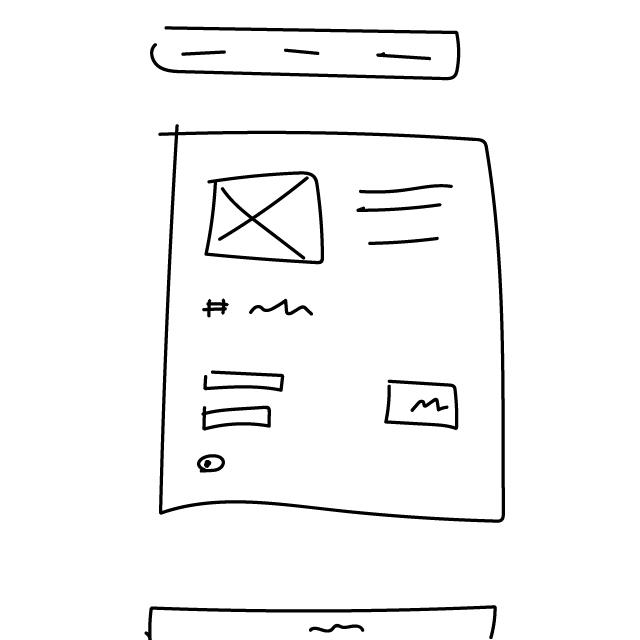button: (380, 374, 468, 435)
checkbox: (196, 453, 230, 476)
container: (139, 115, 514, 538)
footer: (136, 599, 504, 640)
frame: (197, 165, 331, 269)
heading: (202, 295, 319, 326)
input: (196, 400, 280, 435), (197, 365, 290, 395)
nav: (148, 23, 468, 84)
text: (352, 180, 469, 258)
